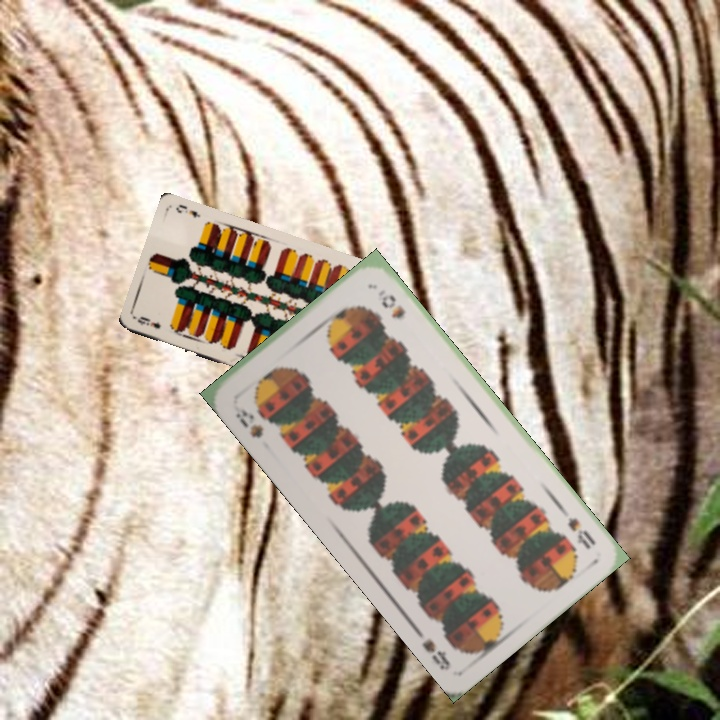E9: (133, 312, 163, 331)
S8: (556, 503, 599, 552), (231, 400, 267, 441)
